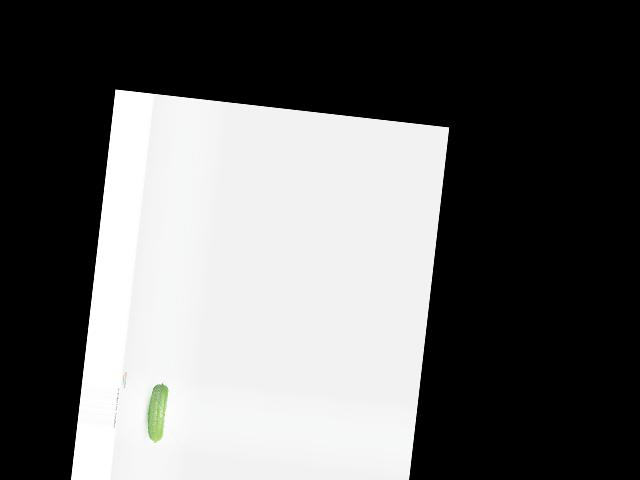cucumber: (145, 381, 169, 444)
